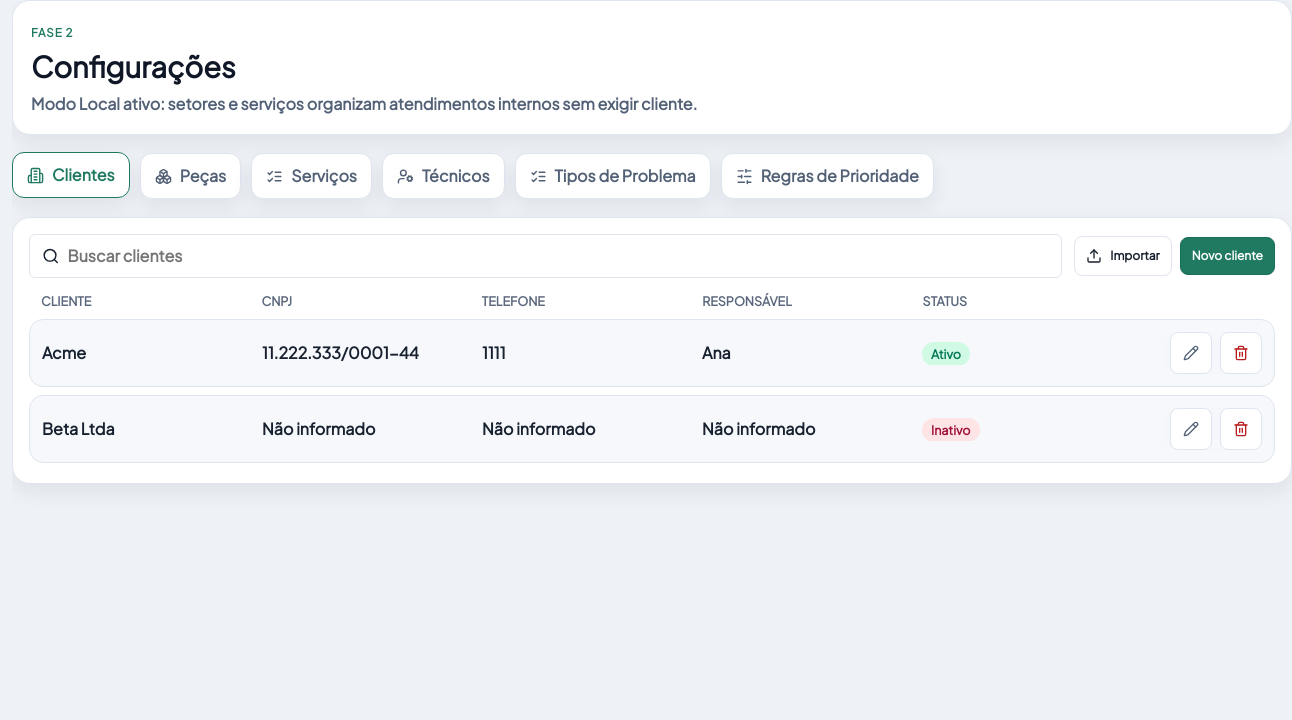
Scenario: SettingsView - listagem e navegacao › percorre as seis abas carregando cada cadastro
Expected: the text "Acme" is shown, [42,342,86,363]
What coordinates should you click on to do the following:
click the button "Peças"
I would click on:
 (190, 176)
Its box is [140,153,241,199].
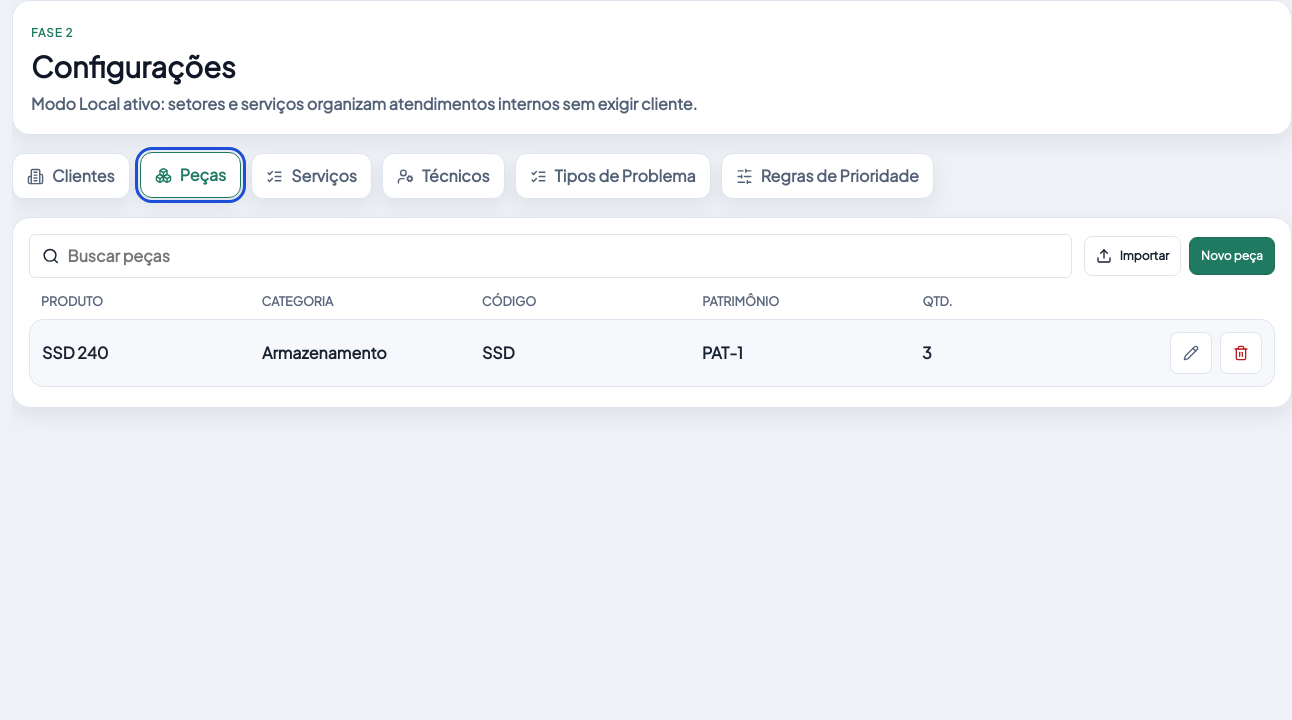
Now the text "SSD 240" is shown, box [42,342,108,363]
Now the text "PAT-1" is shown, box [702,342,743,363]
What coordinates should you click on to do the following:
click the button "Serviços"
I would click on:
 (312, 176)
Its box is [251,153,372,199].
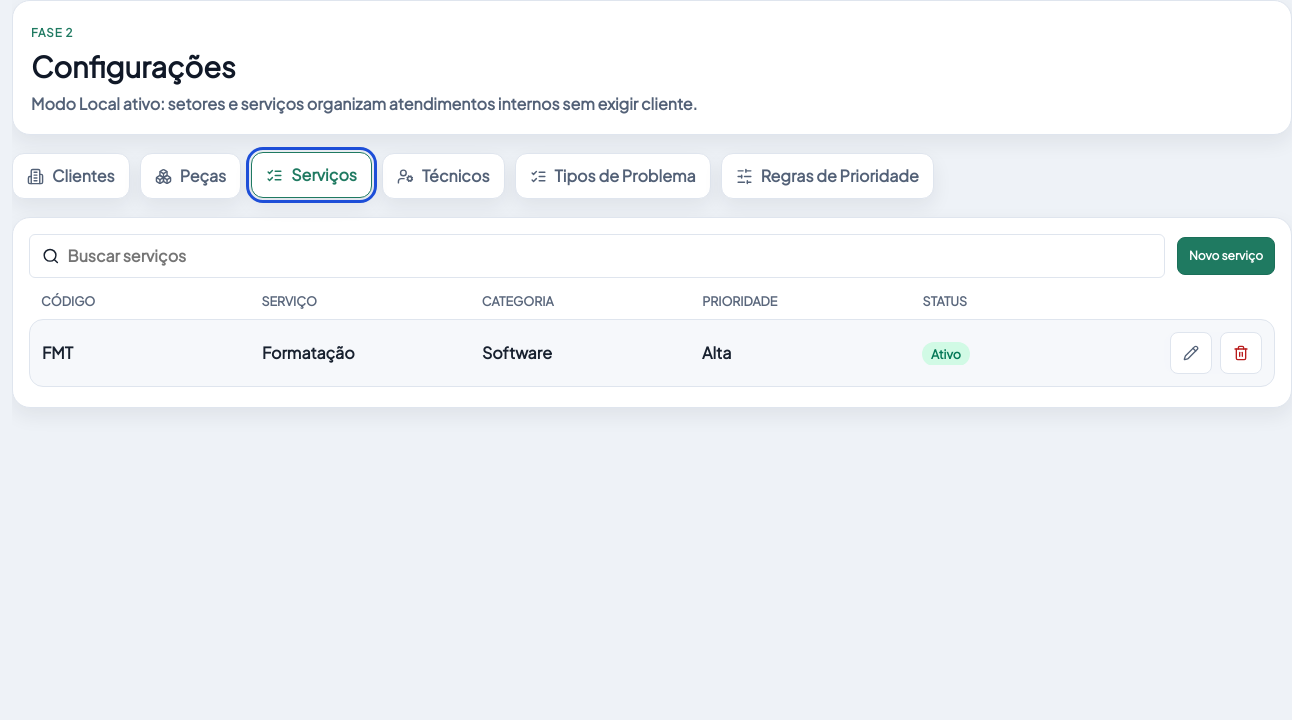
Now the text "Formatação" is shown, box [262,342,355,363]
Now the text "Alta" is shown, box [702,342,731,363]
Now the button "Importar" is gone
What coordinates should you click on to do the following:
click the button "Técnicos"
I would click on:
 (443, 176)
Its box is [382,153,505,199].
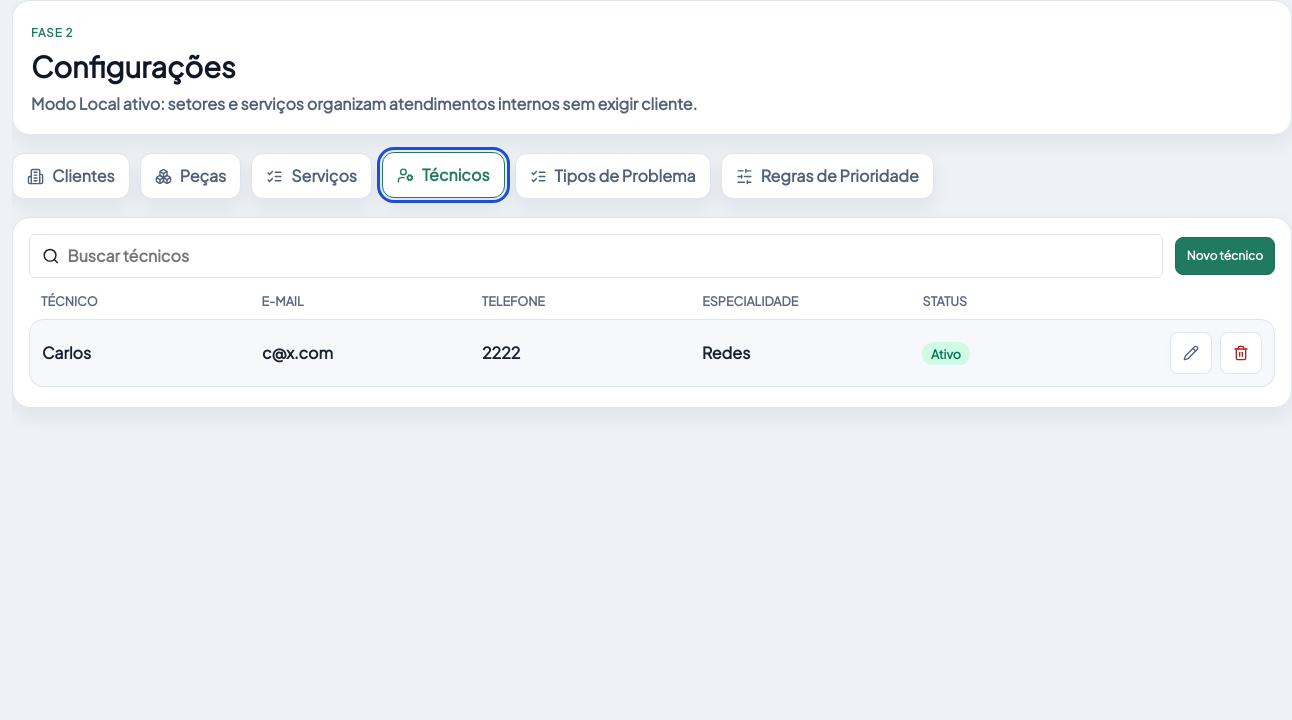
Now the text "Carlos" is shown, box [42,342,91,363]
What coordinates should you click on to do the following:
click the button "Tipos de Problema"
I would click on:
 (613, 176)
Its box is [515,153,711,199].
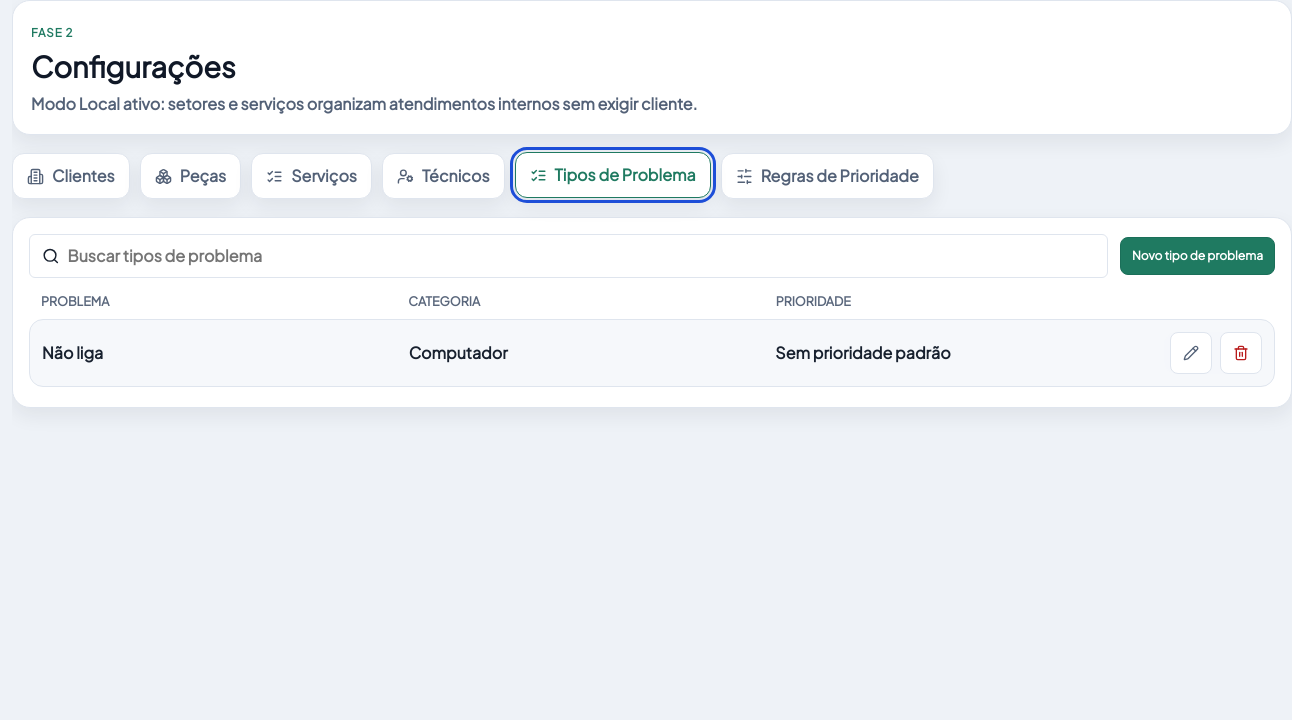
Now the text "Não liga" is shown, box [42,342,103,363]
Now the text "Sem prioridade padrão" is shown, box [775,342,951,363]
Now the text "Computador" is shown, box [409,342,508,363]
What coordinates should you click on to do the following:
click the button "Regras de Prioridade"
I would click on:
 (827, 176)
Its box is [721,153,934,199].
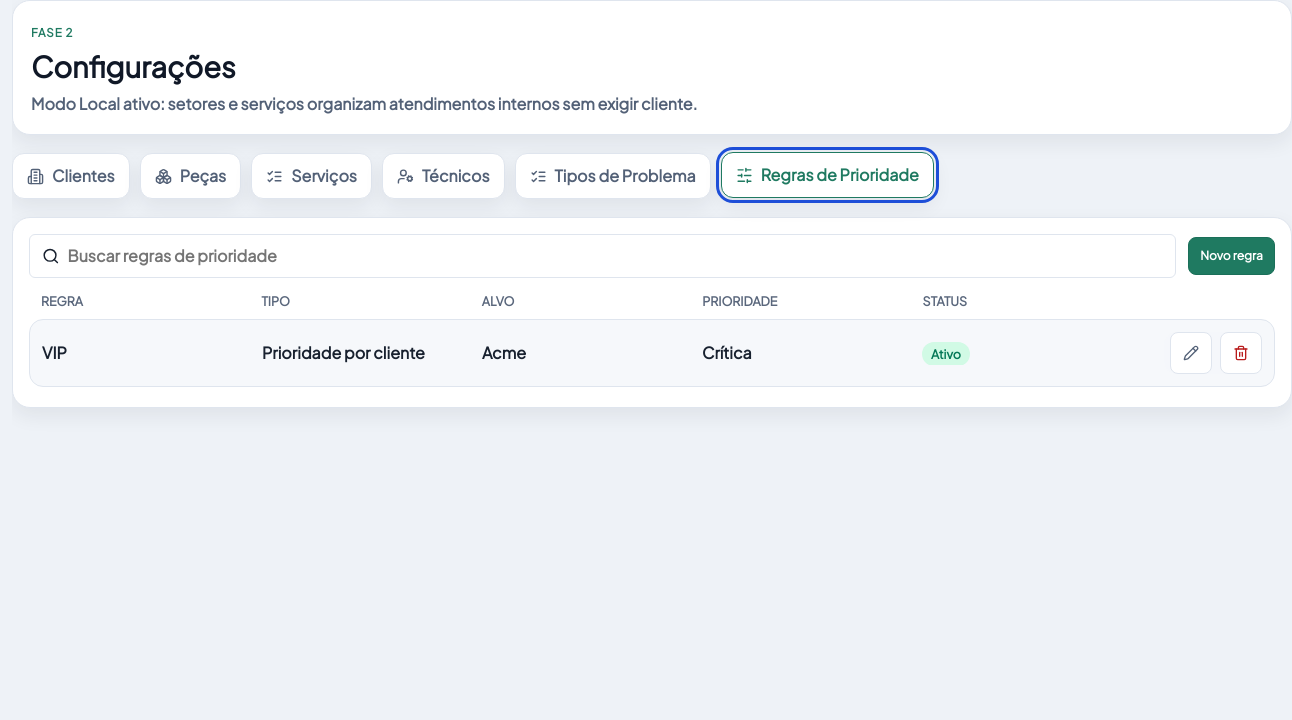
Now the text "VIP" is shown, box [42,342,67,363]
Now the text "Prioridade por cliente" is shown, box [262,342,425,363]
Now the text "Crítica" is shown, box [702,342,752,363]
